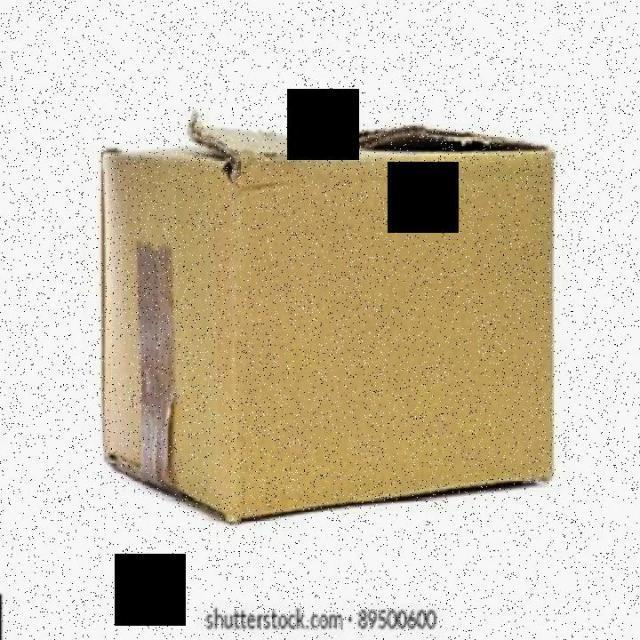box: (78, 104, 568, 526)
